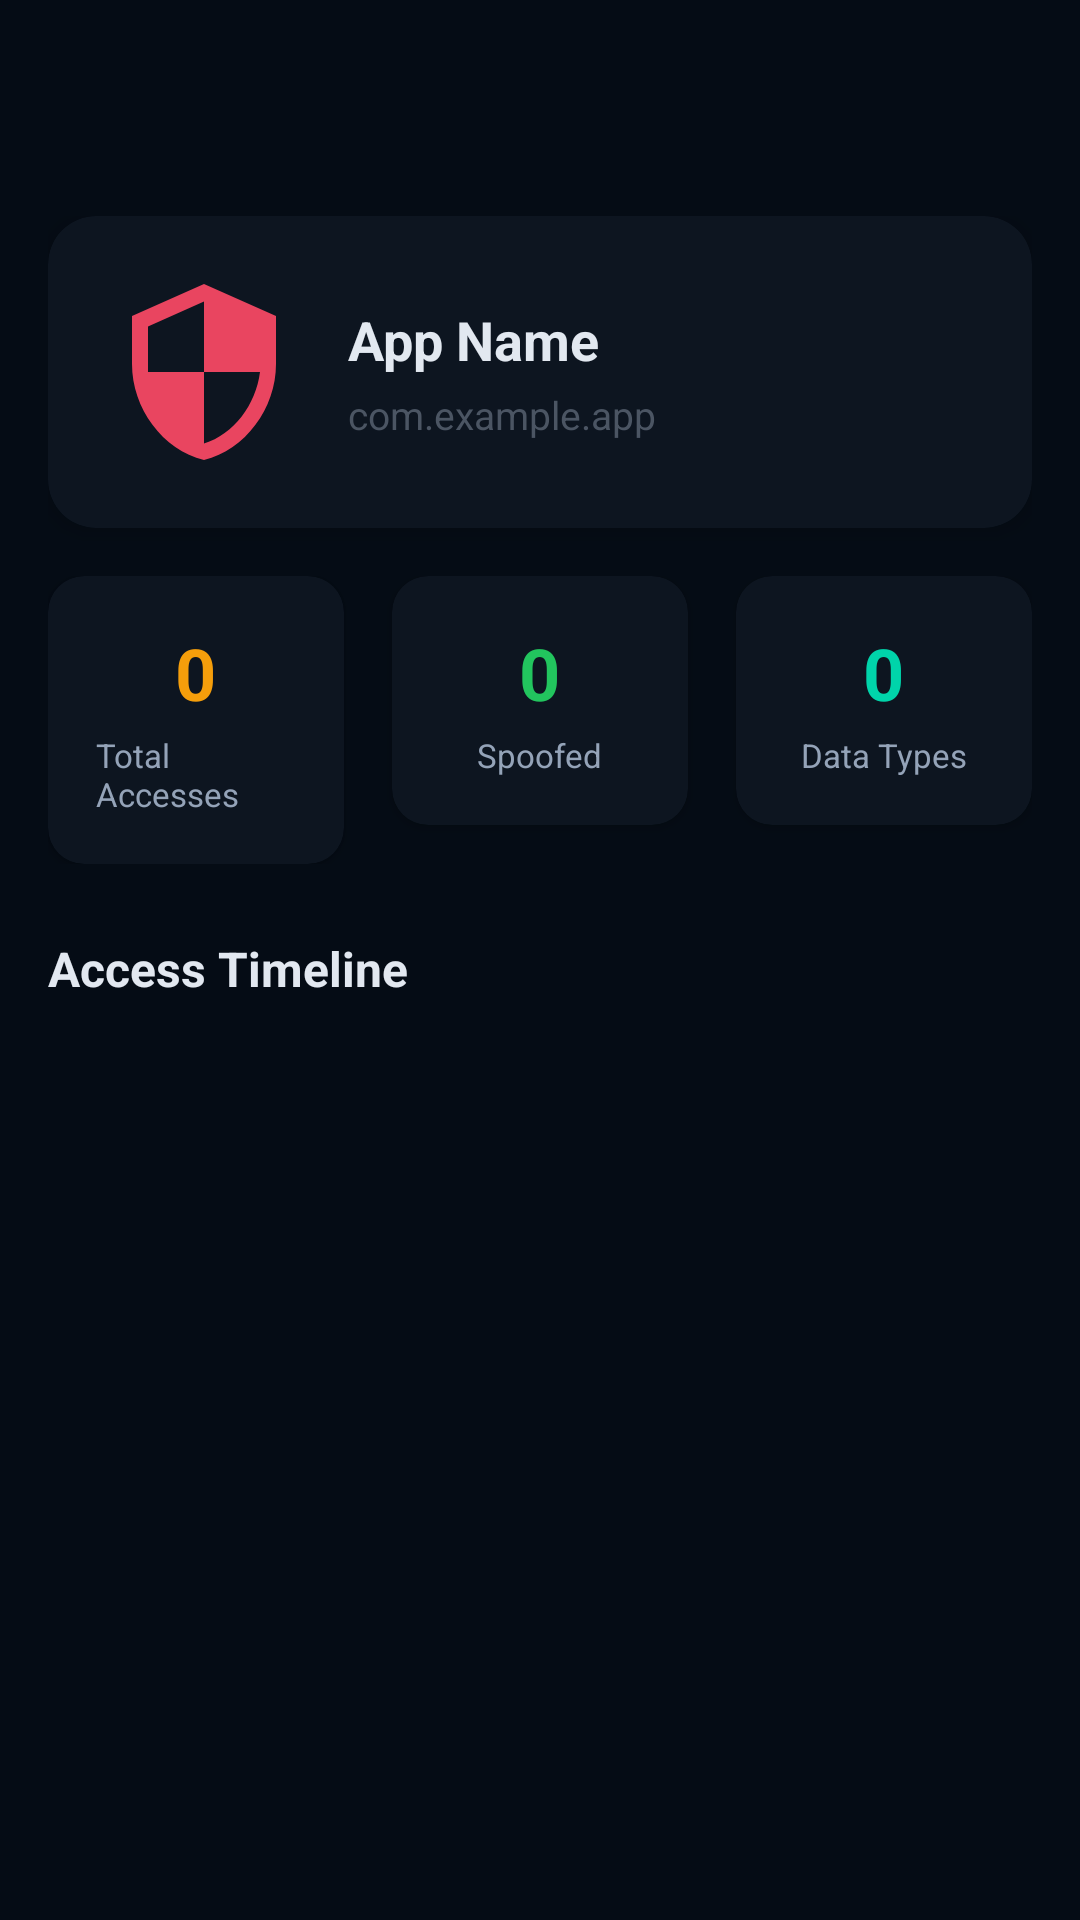

Icon bounding boxes for this 1080*1920 phone screenshot, format [left=x1, top=y1, right=x2, bottom=y2]:
shield: [left=132, top=284, right=276, bottom=460]
